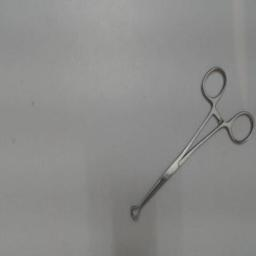Babcock Tissue Forceps: (128, 64, 256, 224)
